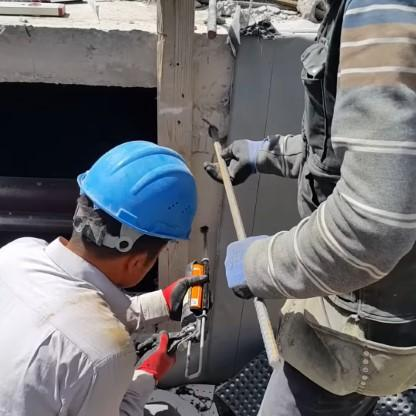helmet: (31, 135, 198, 303)
